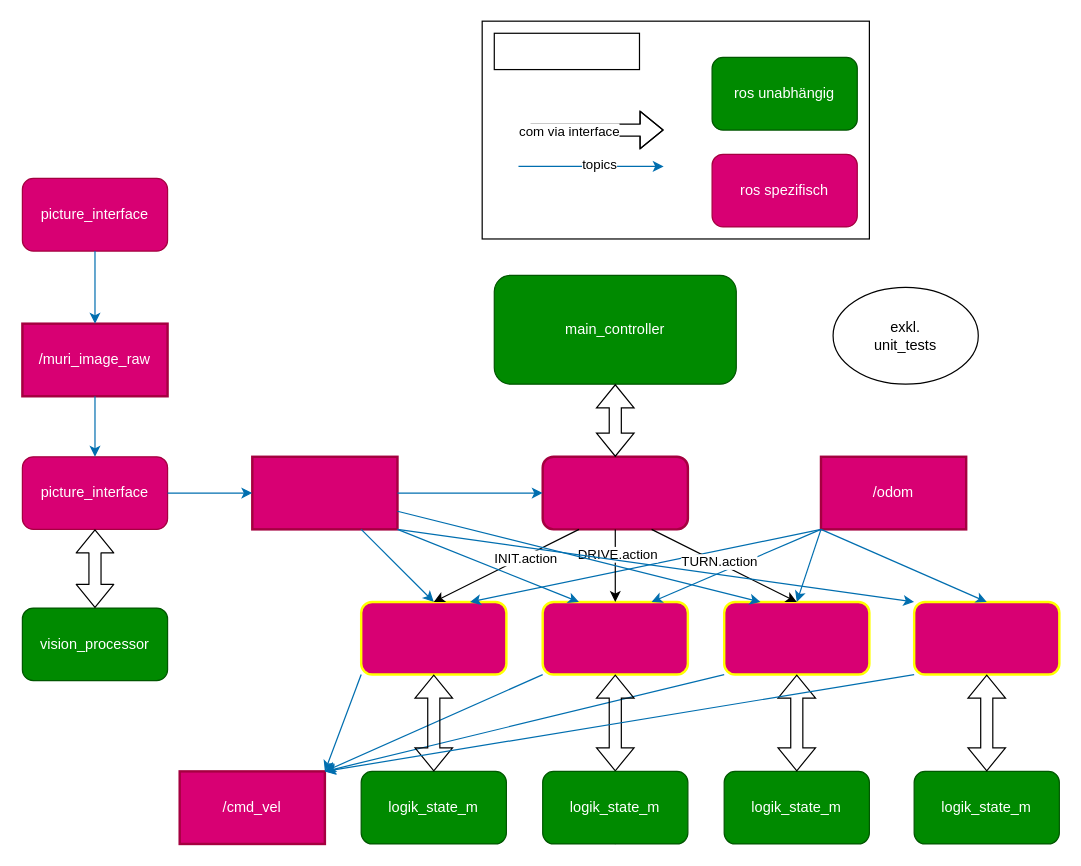
The diagram is 1081 pixels wide and 866 high, and some of its shapes have lost their labels. Here are the shapes that lost their labels. From the top down, the centre of each, then its label:
At pixel 566 51: "Legende".
At pixel 324 492: "/picture_data".
At pixel 614 492: "Action_handler_node".
At pixel 433 637: "Acrion_init".
At pixel 614 637: "Acion_drive".
At pixel 796 637: "Action_turn".
At pixel 986 637: "Action_follow".
